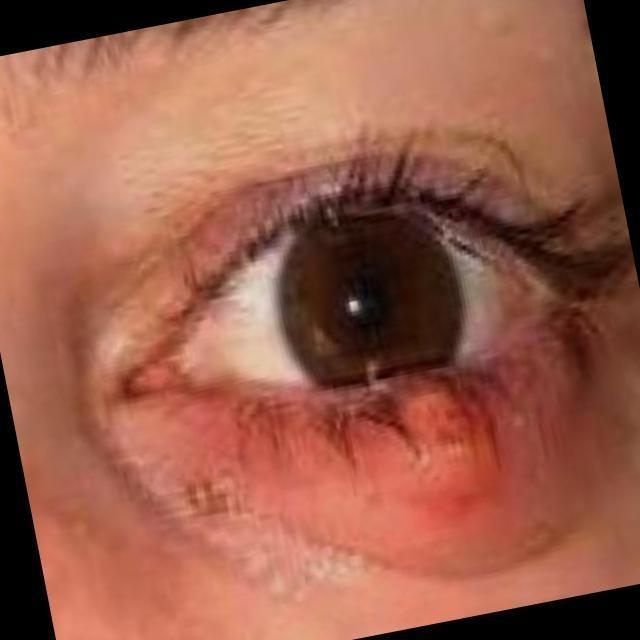Stye: (237, 302, 632, 556)
